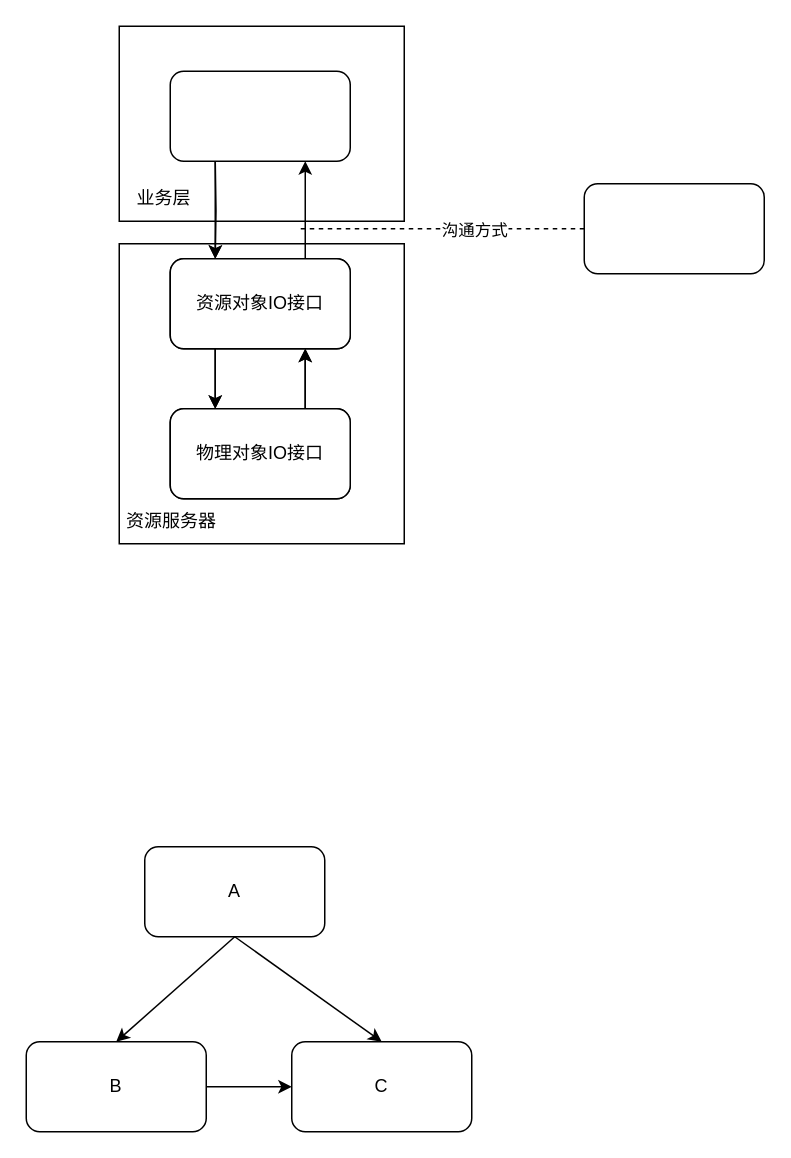
Some shapes in this 791 by 1158 pixel diagram are drawn without their labels. The centre of each missing label's shape, as x and y in pixels:
业务功能: the point at 259,115
资源对象: the point at 673,228
